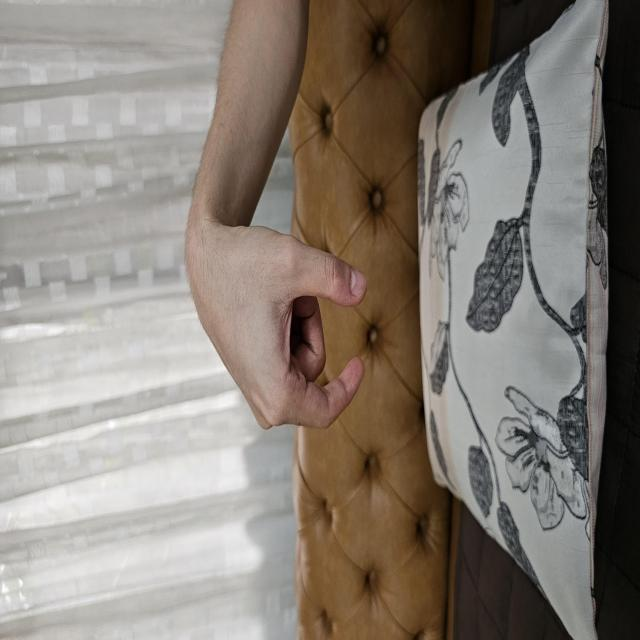Q: (206, 183, 422, 370)
